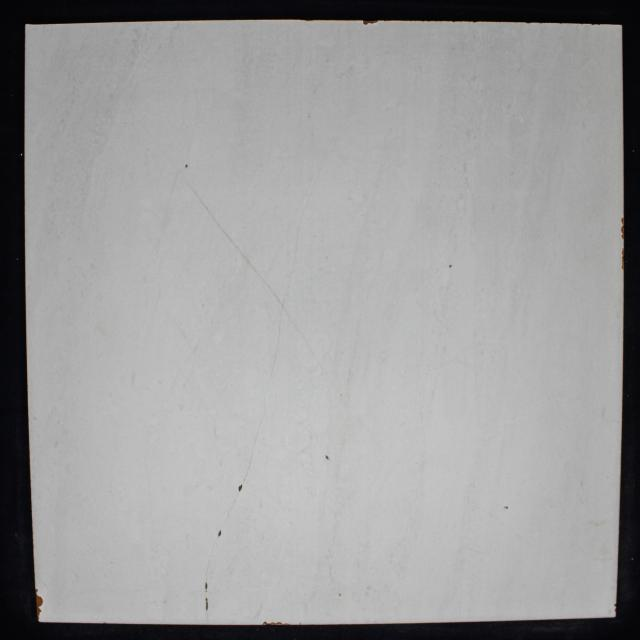edge-chipping: (34, 594, 44, 607), (262, 621, 282, 626), (35, 608, 42, 622), (620, 217, 624, 240), (621, 248, 625, 270), (362, 20, 379, 25), (283, 623, 292, 626), (35, 588, 38, 594)
hole: (238, 484, 243, 492), (218, 530, 222, 538), (204, 582, 208, 590), (338, 592, 342, 598), (325, 455, 329, 460), (185, 164, 188, 168), (449, 264, 452, 268), (504, 506, 508, 509)
line: (244, 404, 283, 483), (192, 184, 234, 245), (237, 247, 280, 302), (262, 309, 282, 402), (298, 176, 318, 236), (283, 238, 298, 306), (221, 493, 240, 530), (205, 538, 218, 582)
